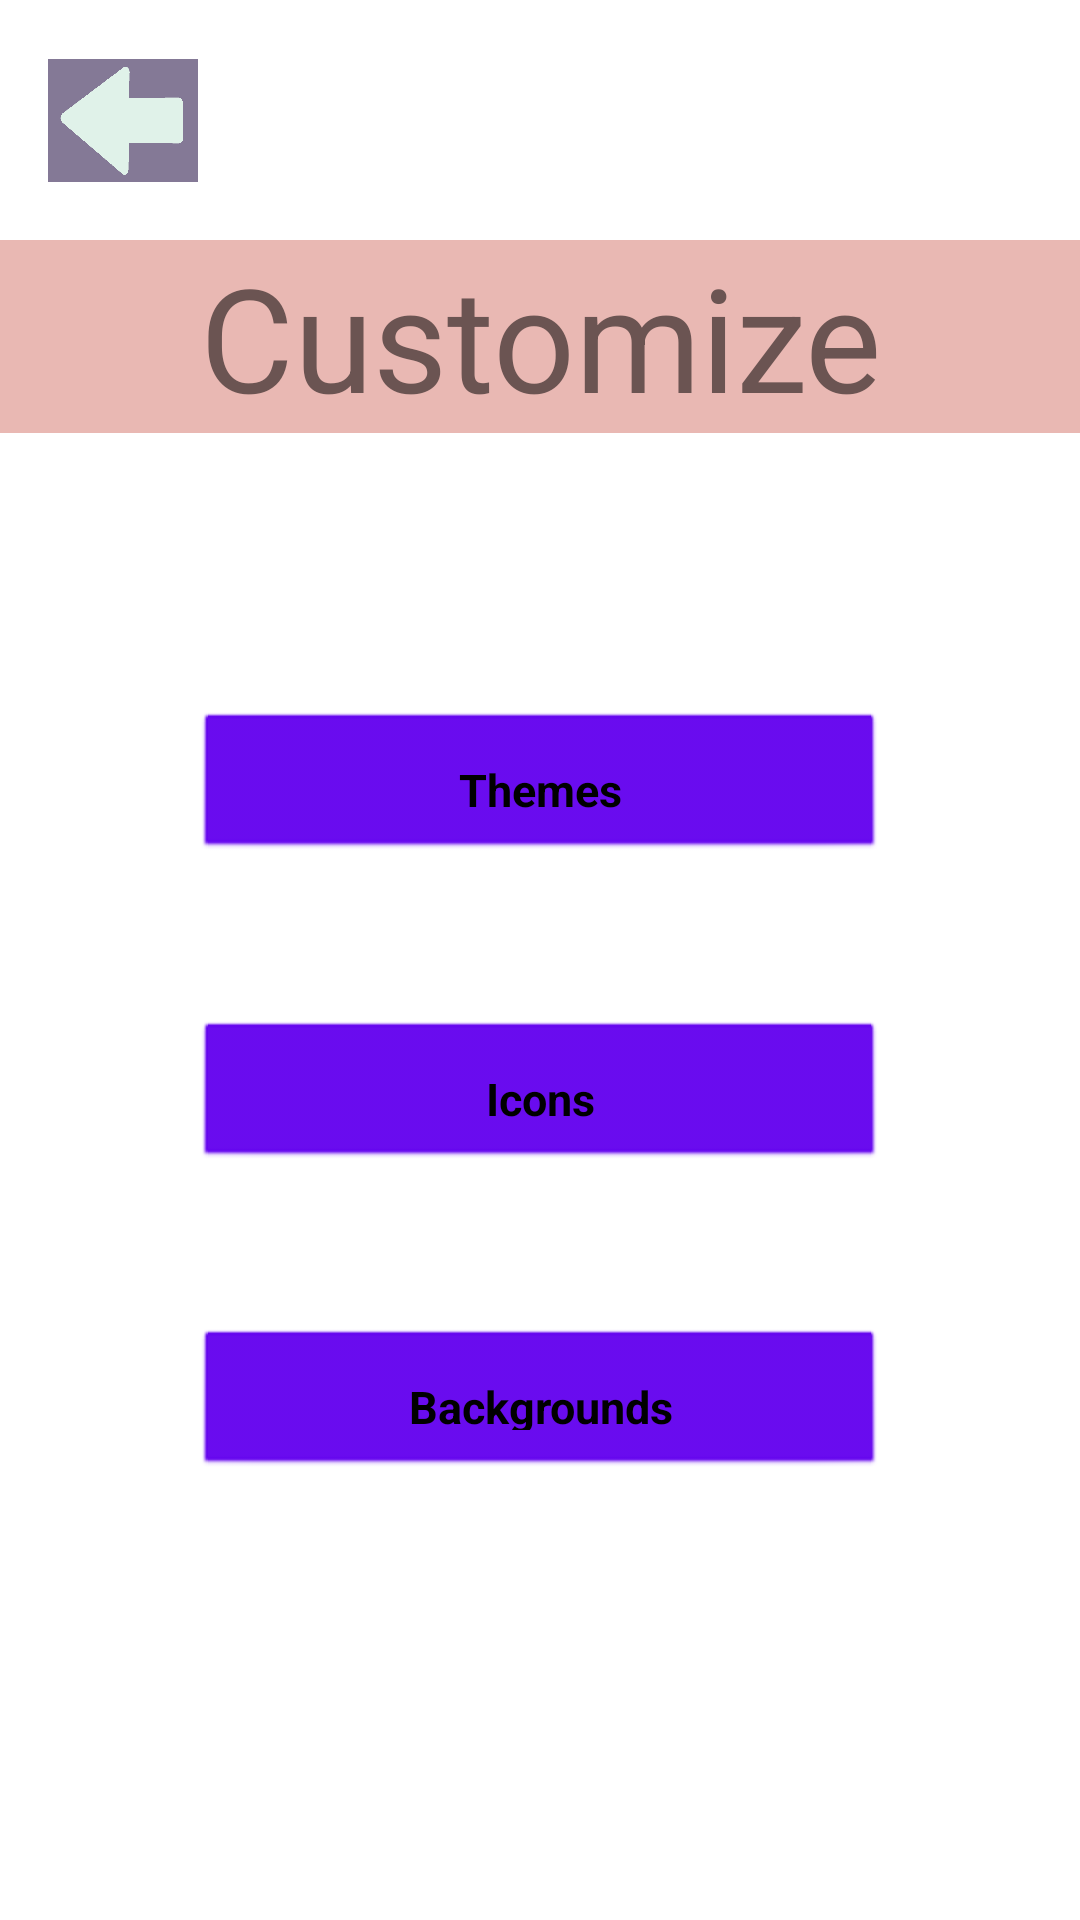

Icons on this 1080x1920 Android screen, each with its box as (x1=x1, y1=y1, x2=x2, y2=y2):
Small arrow to go up to previous menu: (x1=48, y1=59, x2=198, y2=182)
